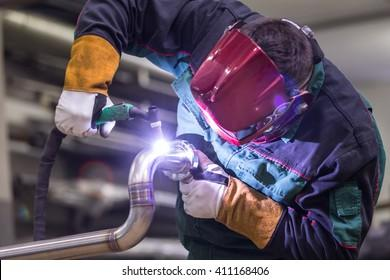gloves: (179, 149, 289, 251), (53, 33, 121, 139)
